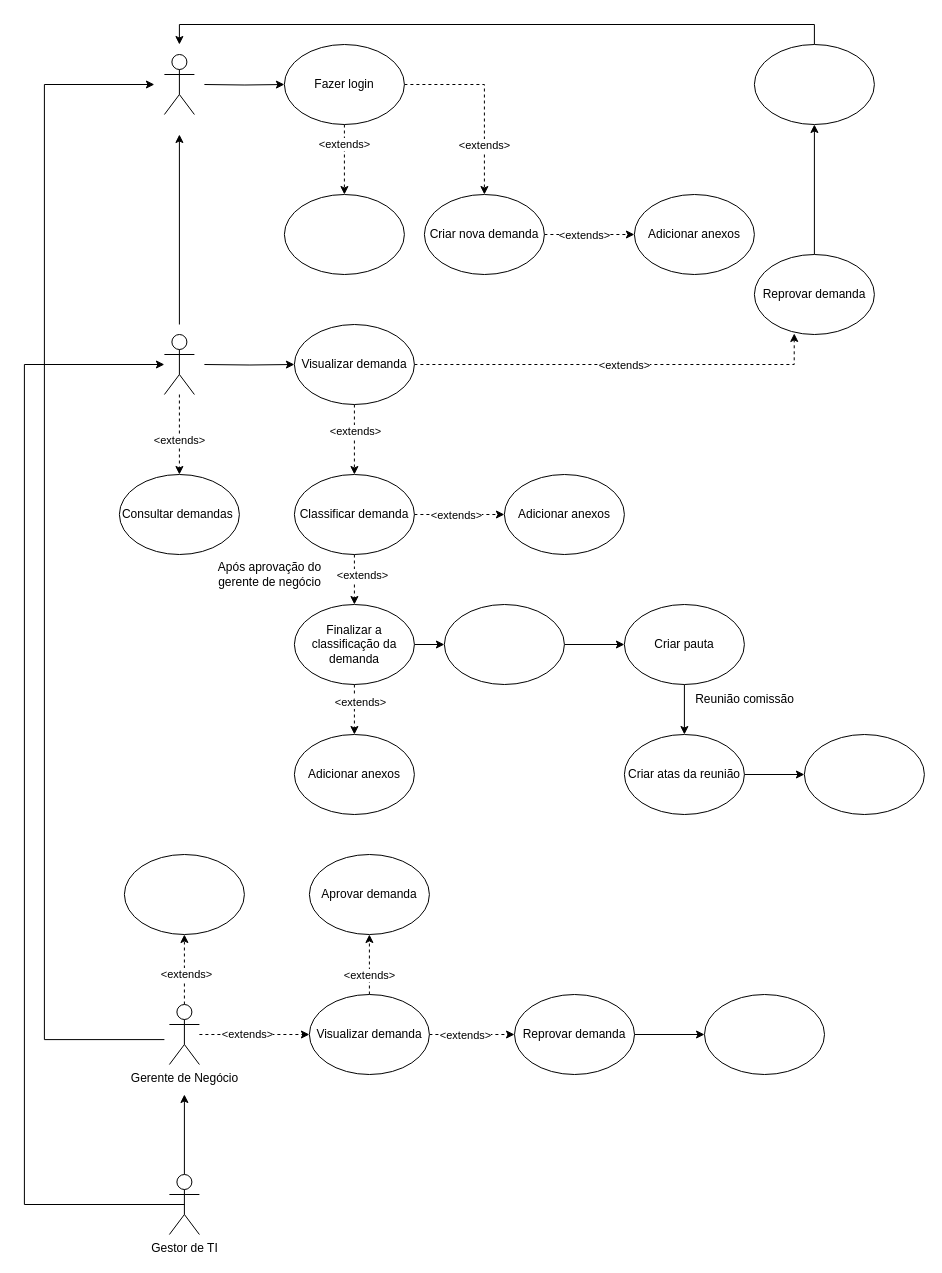
This 942x1273 diagram has some shape labels left out. Here are the shapes that lost their labels. From the top down, the centre of each, then its label:
At point 178,84: "Solicitante".
At point 813,84: "Devolver demanda".
At point 343,234: "Consultar suas demandas e de seu departamento".
At point 178,364: "Analista de TI".
At point 503,644: "Criar proposta para comissão".
At point 863,774: "Incluir parecer para comissão".
At point 183,894: "Consultar demandas de sua área".
At point 764,1034: "Informar o motivo do reprovamento".
